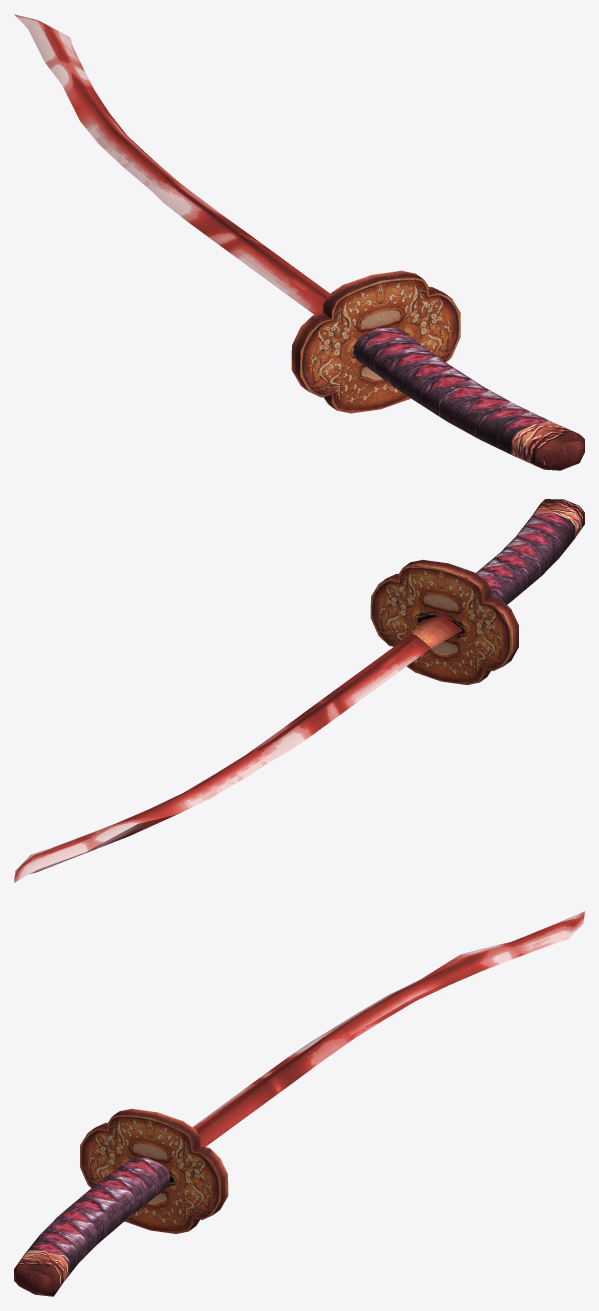
The model's file is sword_hakuda_hakuda_fire.glb.
3 views of the same model, one above another, from view 1: azimuth 30°, elevation 25°; view 2: azimuth 150°, elevation 25°; view 3: azimuth 330°, elevation 25° (orthographic). The views are drawn at different scales.
Bounding box in the file's own units: 0.1612 × 0.1211 × 1.01.
1 material, 1 textured.
